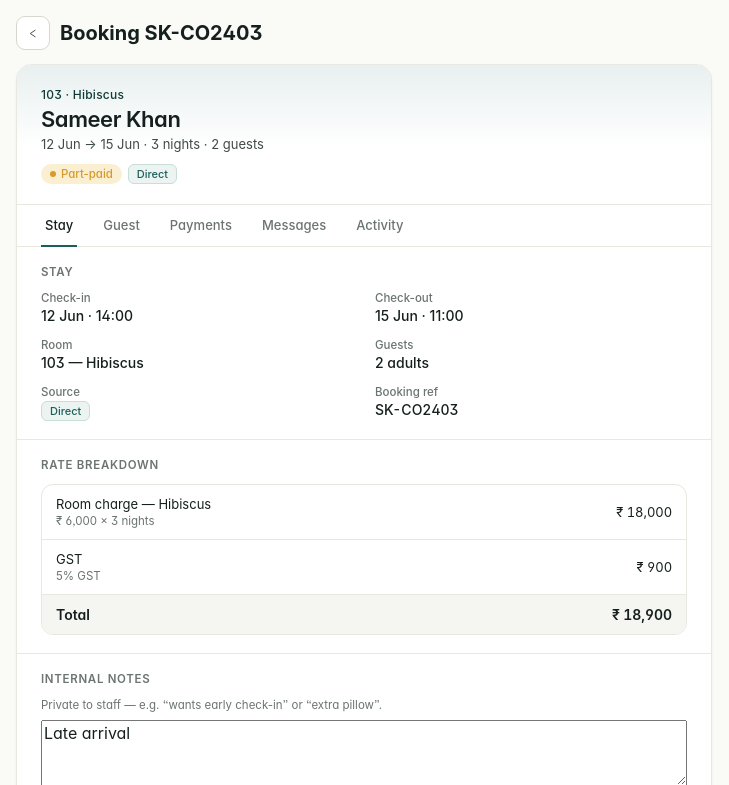
Scenario: BookingDetailView › renders the hero and switches between tabs
The image size is (729, 785).
Expected: the heading "Sameer Khan" is shown, [41,106,180,132]
Expected: the text "103 · Hibiscus" is shown, [41,87,124,102]
Step 1. Click the button "Guest" → x=122, y=226, box [99,205,144,247]
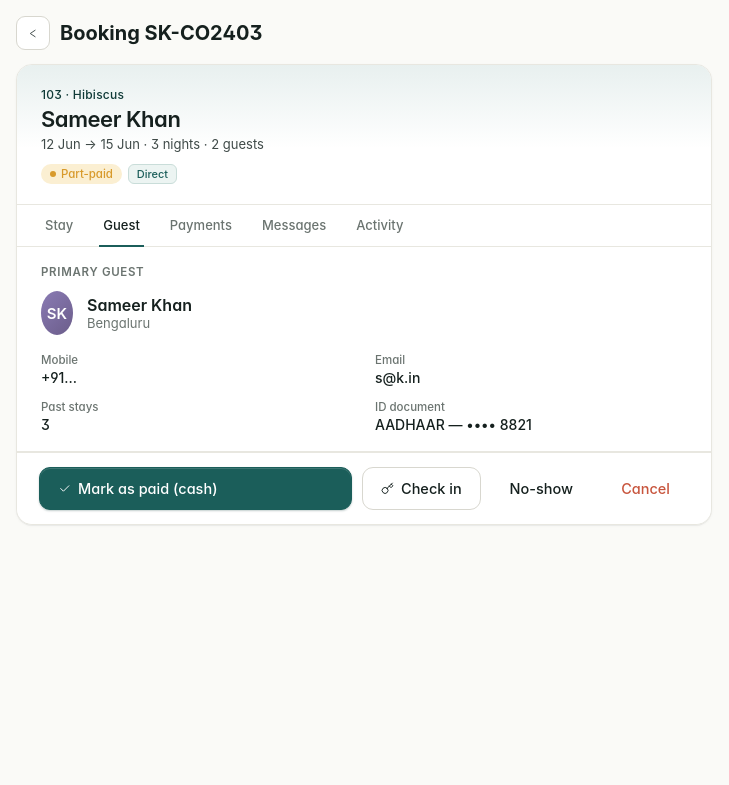
Result: the heading "Primary guest" is shown at [41,265,144,279]
Step 2. Click the button "Payments" → x=201, y=226, box [166,205,236,247]
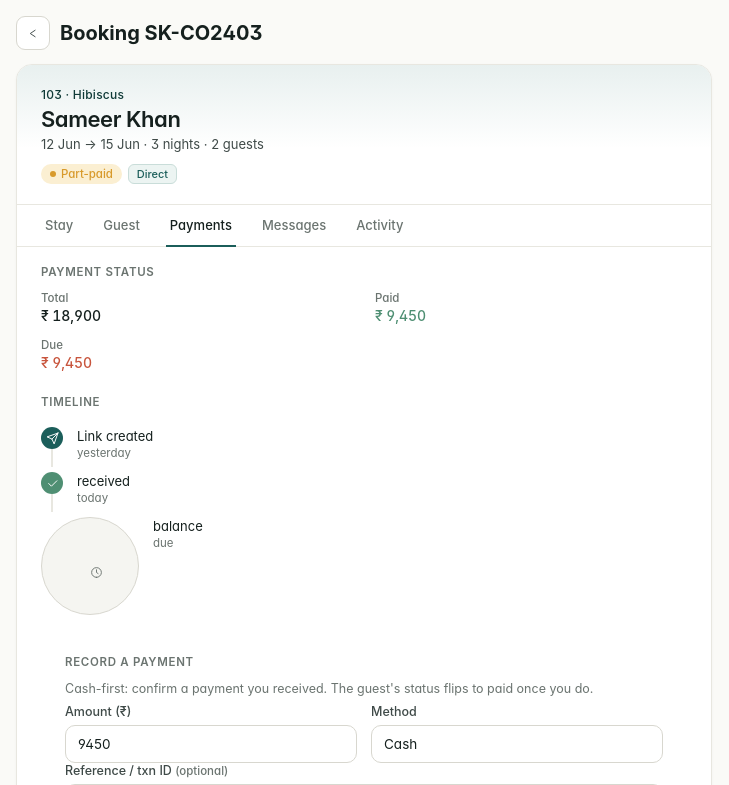
Result: the heading "Payment status" is shown at [41,265,154,279]
Step 3. Click the button "Messages" → x=294, y=226, box [258,205,330,247]
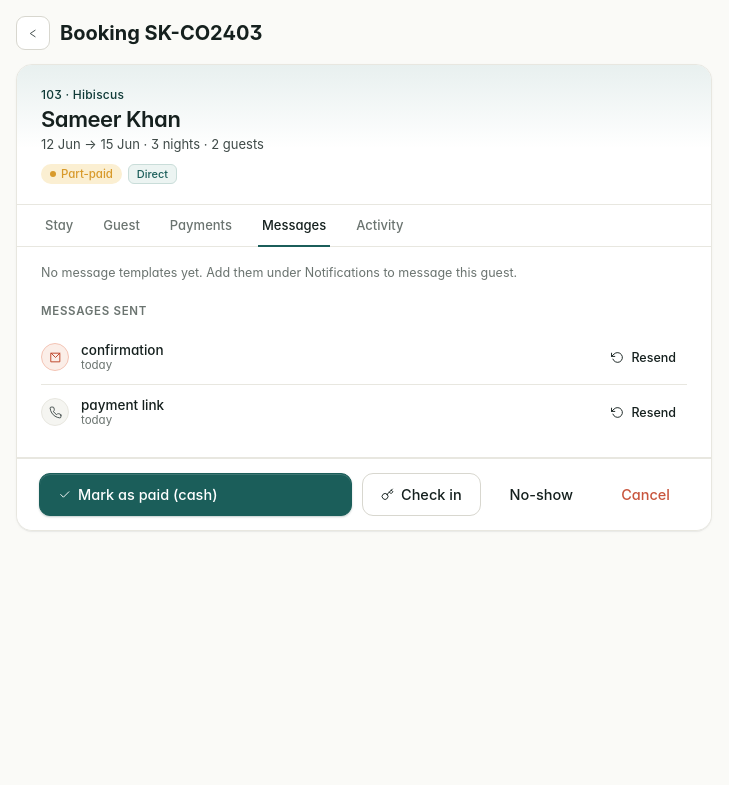
Result: the heading "Messages sent" is shown at [41,304,147,318]
Step 4. Click the button "Activity" → x=380, y=226, box [352,205,407,247]
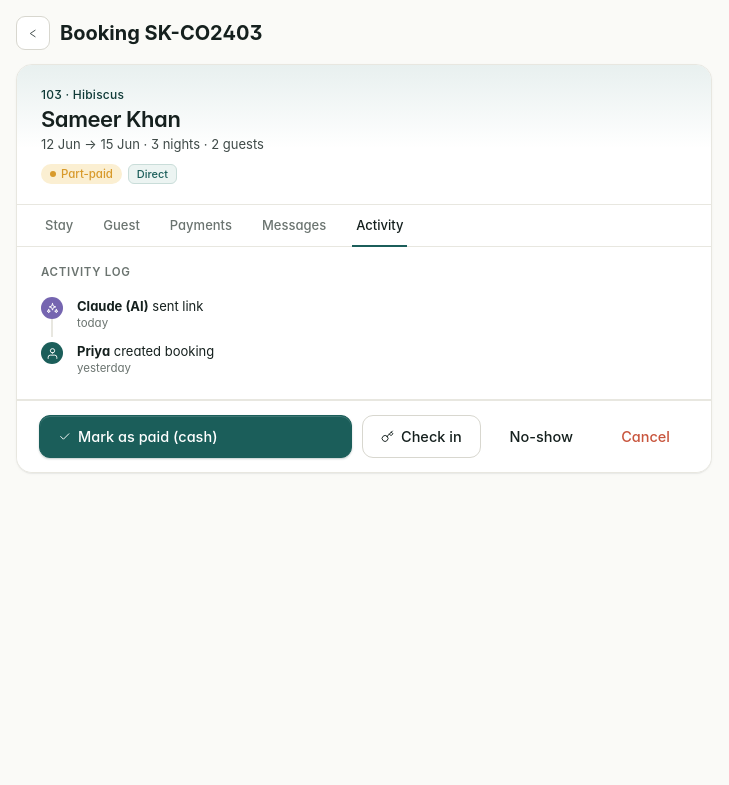
Result: the heading "Activity log" is shown at [41,265,130,279]
